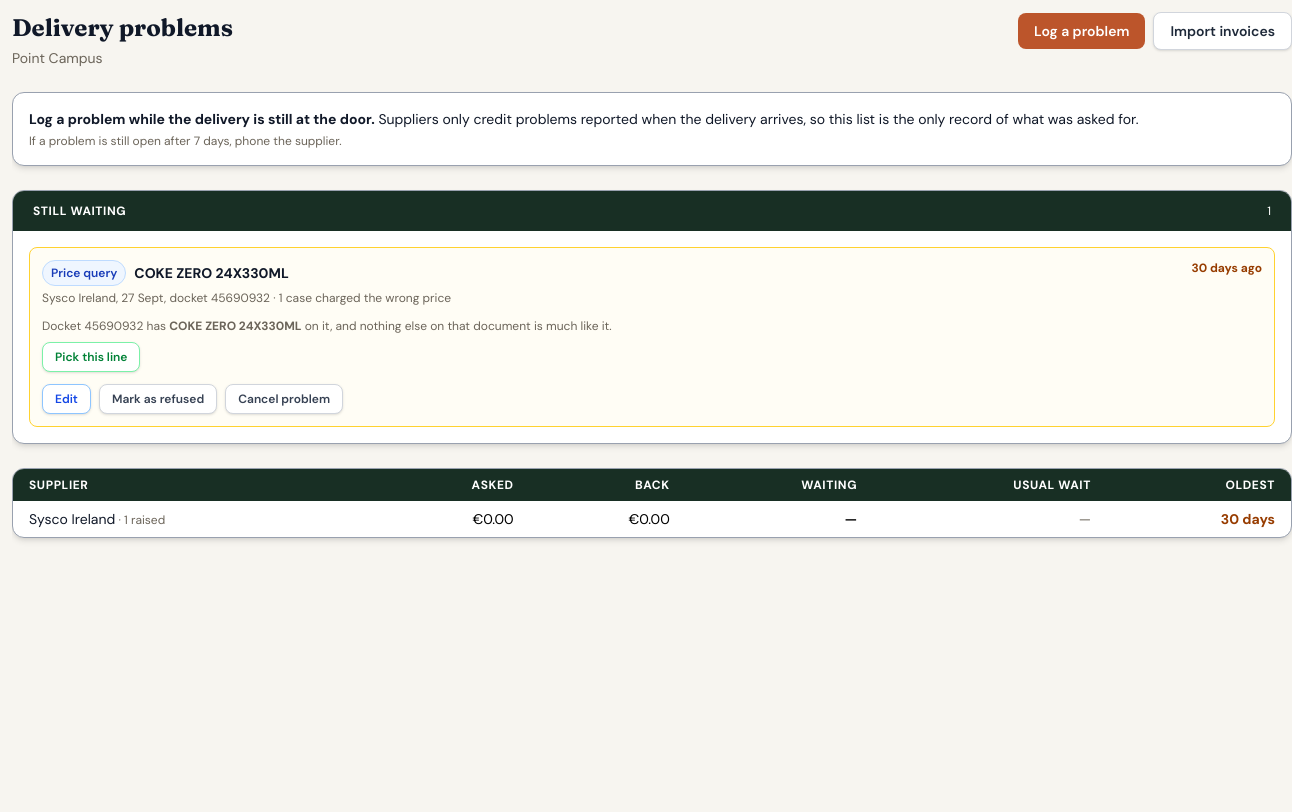
Test: asking before a claim goes on a line › starts a price query at the price the Hub costs, when it is the same pack
What coordinates should you click on to do the following:
click the button "Pick this line"
I would click on:
 (91, 357)
Its box is 42,342 -> 140,372.
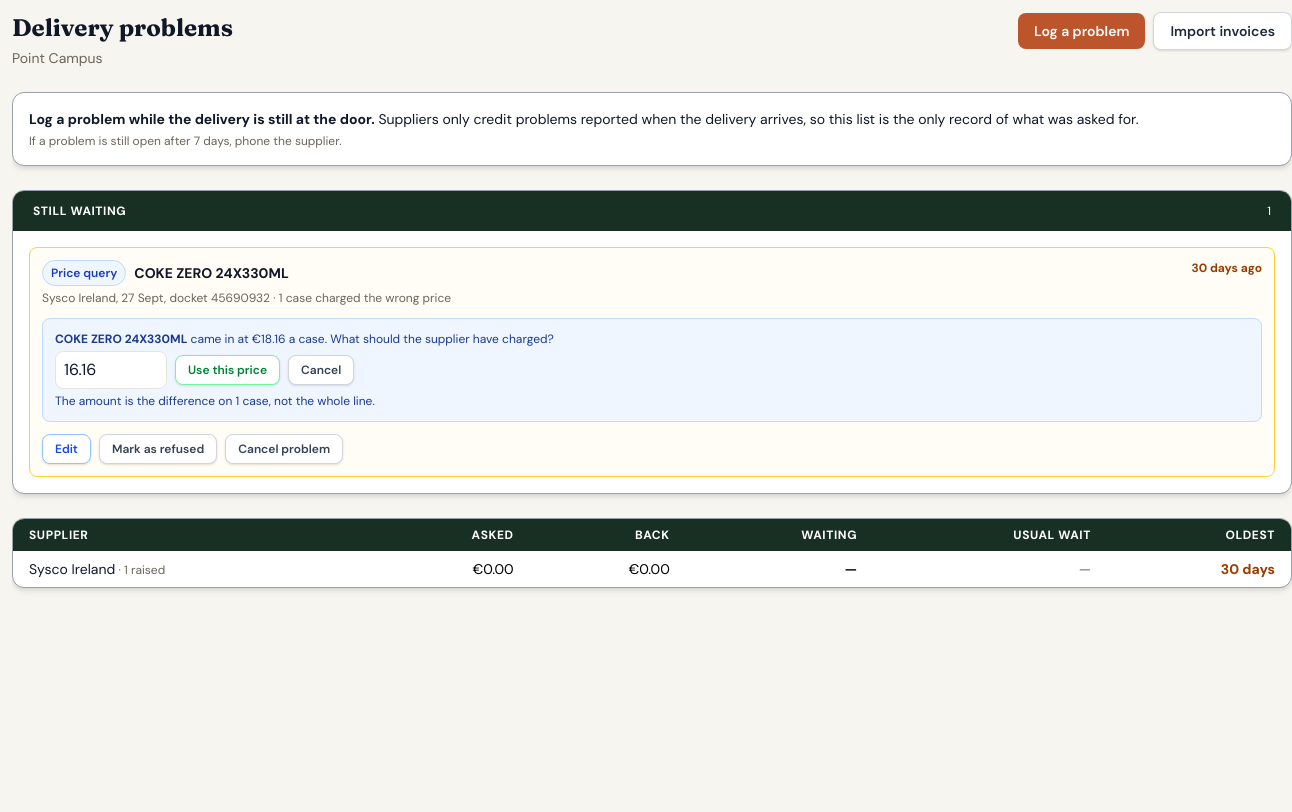
Expected: the field named "What should the supplier have charged" holds "16.16", 55,351 -> 167,389
